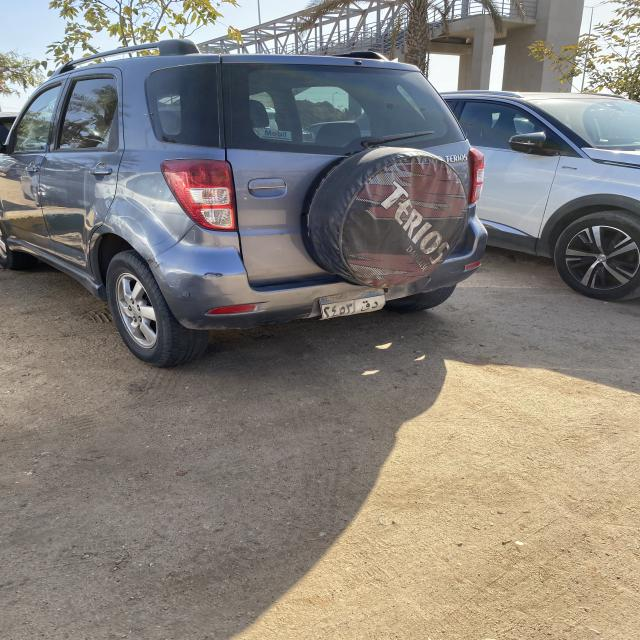License Plate: (319, 288, 386, 320)
